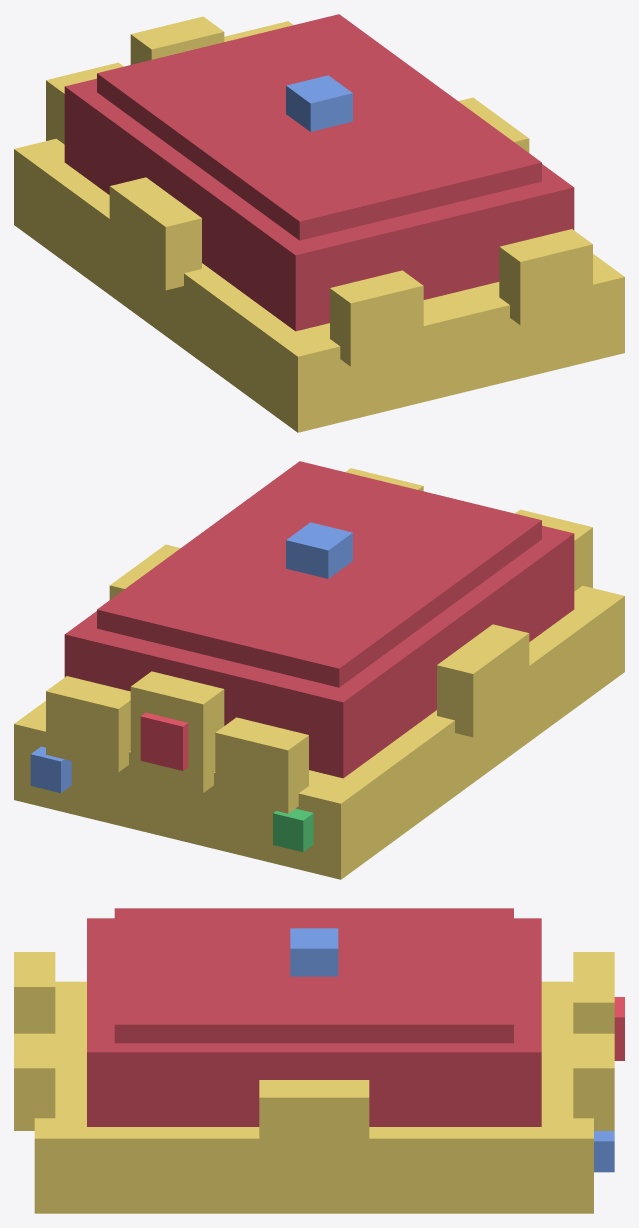
File: coroa_rei.glb
3 views of the same model, one above another, from view 1: azimuth 30°, elevation 25°; view 2: azimuth 150°, elevation 25°; view 3: azimuth 270°, elevation 25° (orthographic).
Visible parts, largest first — view 1: coroa_rei; view 2: coroa_rei; view 3: coroa_rei.
Boxes of the visible parts, <box> form: coroa_rei: <box>14,14,624,432</box>; coroa_rei: <box>14,461,624,879</box>; coroa_rei: <box>14,908,624,1213</box>.
Size of the model in its own units: 0.6 by 0.315 by 0.887.
